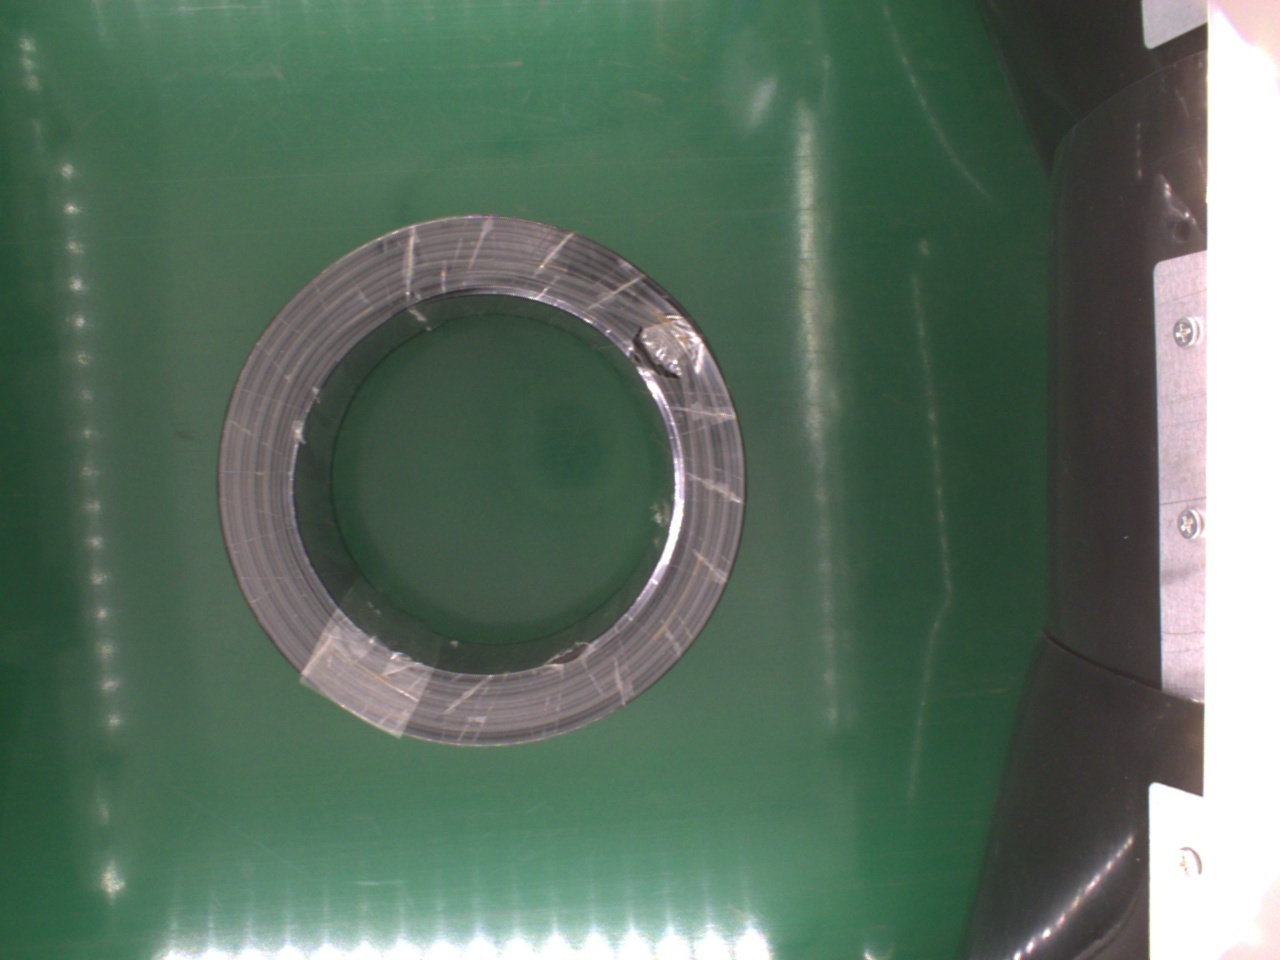black: (211, 213, 746, 754)
